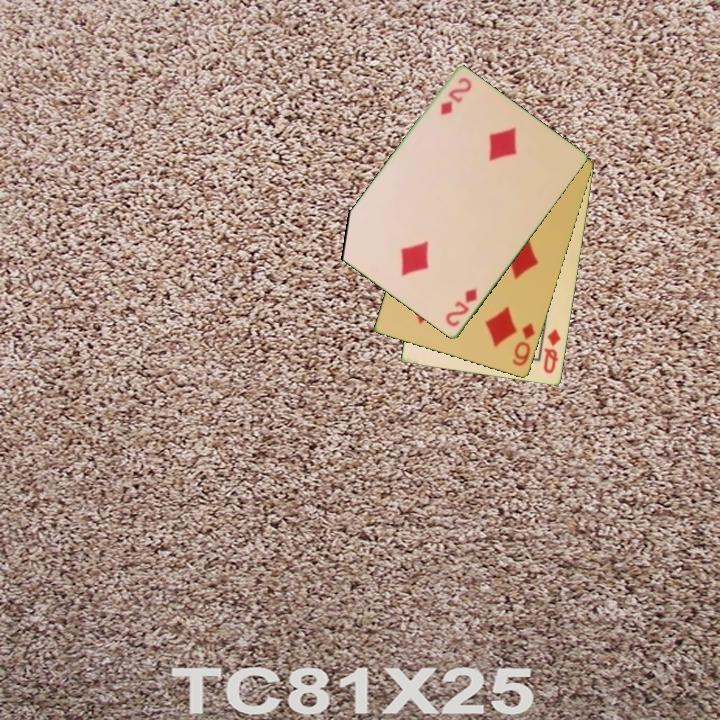2d: (442, 285, 480, 330), (437, 74, 475, 119)
6d: (509, 319, 538, 369)
Qd: (540, 326, 564, 377)
